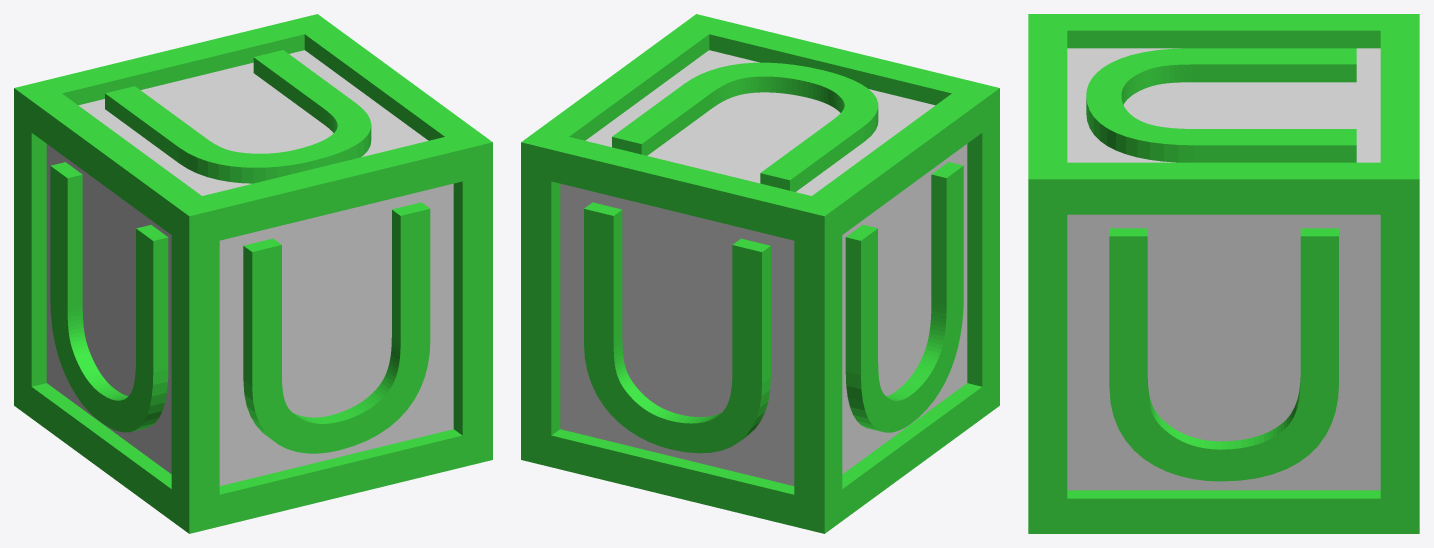
3 views of the same model, side by side, from view 1: azimuth 30°, elevation 25°; view 2: azimuth 150°, elevation 25°; view 3: azimuth 270°, elevation 25° (orthographic). The views are drawn at different scales.
Visible parts, largest first — view 1: Cube, Text.001, Text.002, Text; view 2: Cube, Text.004, Text.002, Text; view 3: Cube, Text.003, Text.
Part boxes in pixels (left/top/right/bottom): Cube: left=14, top=14, right=492, bottom=533; Text.001: left=243, top=202, right=430, bottom=453; Text.002: left=50, top=162, right=168, bottom=432; Text: left=105, top=50, right=371, bottom=183; Cube: left=521, top=14, right=999, bottom=533; Text.004: left=584, top=202, right=770, bottom=453; Text.002: left=845, top=162, right=963, bottom=432; Text: left=612, top=62, right=878, bottom=191; Cube: left=1028, top=14, right=1419, bottom=533; Text.003: left=1109, top=228, right=1338, bottom=481; Text: left=1086, top=48, right=1356, bottom=162.
Bounding box in the file's own units: 200 × 200 × 200.
